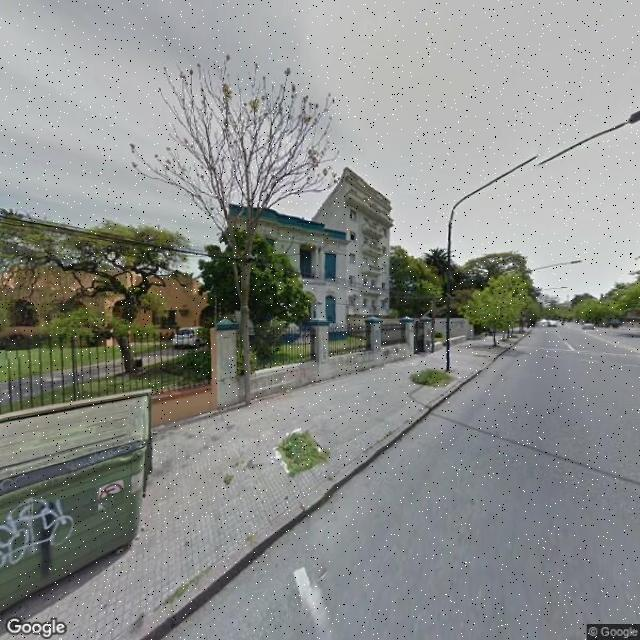garbage container: (1, 383, 166, 623)
